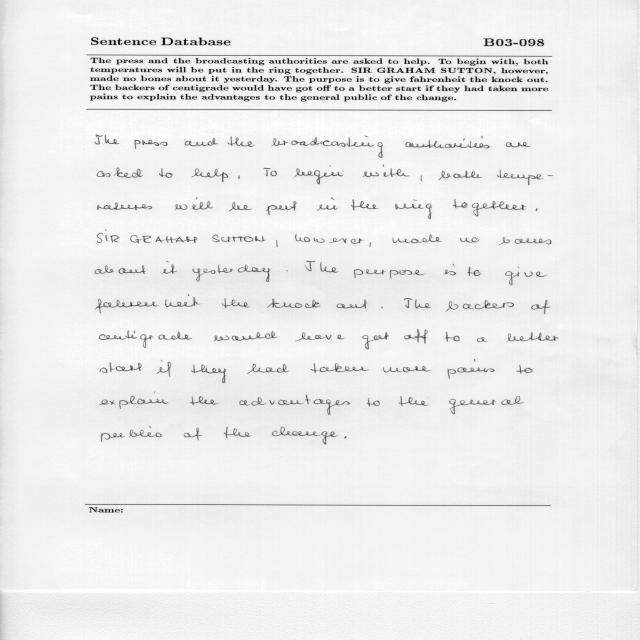word: (271, 136, 383, 158), (239, 395, 350, 415), (95, 294, 200, 313), (99, 330, 192, 348), (449, 396, 524, 414), (193, 265, 270, 282), (453, 199, 526, 216), (272, 427, 338, 445), (100, 392, 169, 409), (405, 136, 490, 148), (293, 165, 343, 184), (448, 359, 495, 379), (102, 427, 163, 442), (497, 170, 553, 185), (505, 267, 547, 285), (446, 300, 514, 311), (354, 269, 425, 279), (395, 200, 432, 219), (295, 234, 363, 244), (191, 365, 226, 384), (214, 331, 278, 341), (130, 235, 197, 244), (310, 363, 369, 373), (363, 165, 410, 177), (506, 332, 559, 342), (97, 167, 143, 178), (175, 198, 213, 211), (362, 332, 389, 350), (268, 299, 321, 308), (192, 169, 228, 182), (100, 362, 142, 373), (95, 265, 146, 274), (392, 234, 442, 243), (296, 333, 345, 342), (98, 202, 152, 210), (212, 235, 266, 243), (499, 237, 552, 245), (267, 201, 297, 215), (247, 364, 289, 374), (305, 261, 338, 273), (439, 171, 482, 180), (404, 329, 428, 344), (351, 199, 379, 210), (399, 396, 429, 406), (135, 140, 168, 149), (228, 136, 255, 147), (404, 298, 431, 309), (224, 427, 251, 438), (317, 197, 338, 211), (98, 229, 119, 243), (383, 366, 431, 372), (222, 298, 250, 308), (337, 300, 367, 309), (531, 300, 550, 314), (185, 138, 218, 146), (190, 396, 218, 405), (157, 360, 171, 377), (184, 428, 202, 441), (95, 135, 119, 144), (229, 202, 252, 211), (162, 261, 177, 274), (516, 365, 533, 374), (445, 332, 460, 342), (444, 264, 456, 275), (159, 168, 172, 178), (467, 267, 481, 276), (506, 142, 531, 147), (460, 237, 479, 243), (264, 168, 277, 176), (367, 398, 380, 406), (477, 338, 487, 343), (421, 175, 423, 182), (276, 240, 278, 247), (238, 176, 240, 179), (536, 208, 538, 211), (344, 437, 347, 439), (370, 242, 371, 247), (286, 270, 288, 272), (381, 307, 383, 309)
